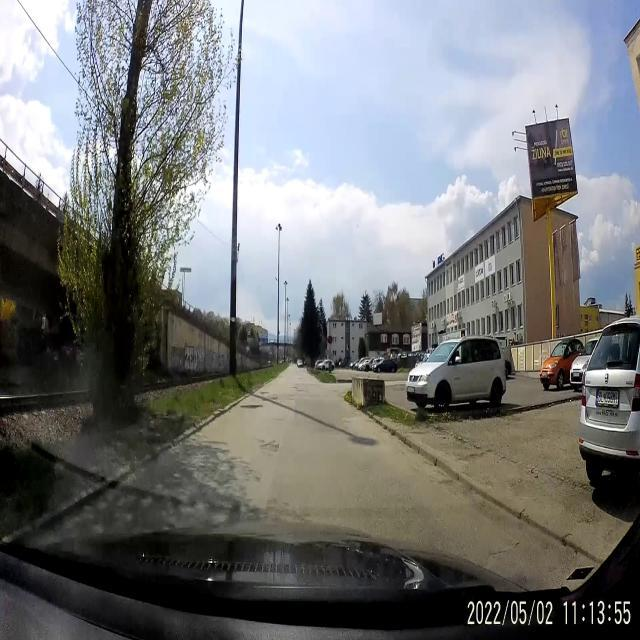Pothole: (256, 434, 280, 456), (239, 403, 264, 408), (258, 391, 270, 394), (270, 396, 278, 400), (292, 386, 298, 390), (296, 390, 304, 392), (298, 376, 302, 378)
